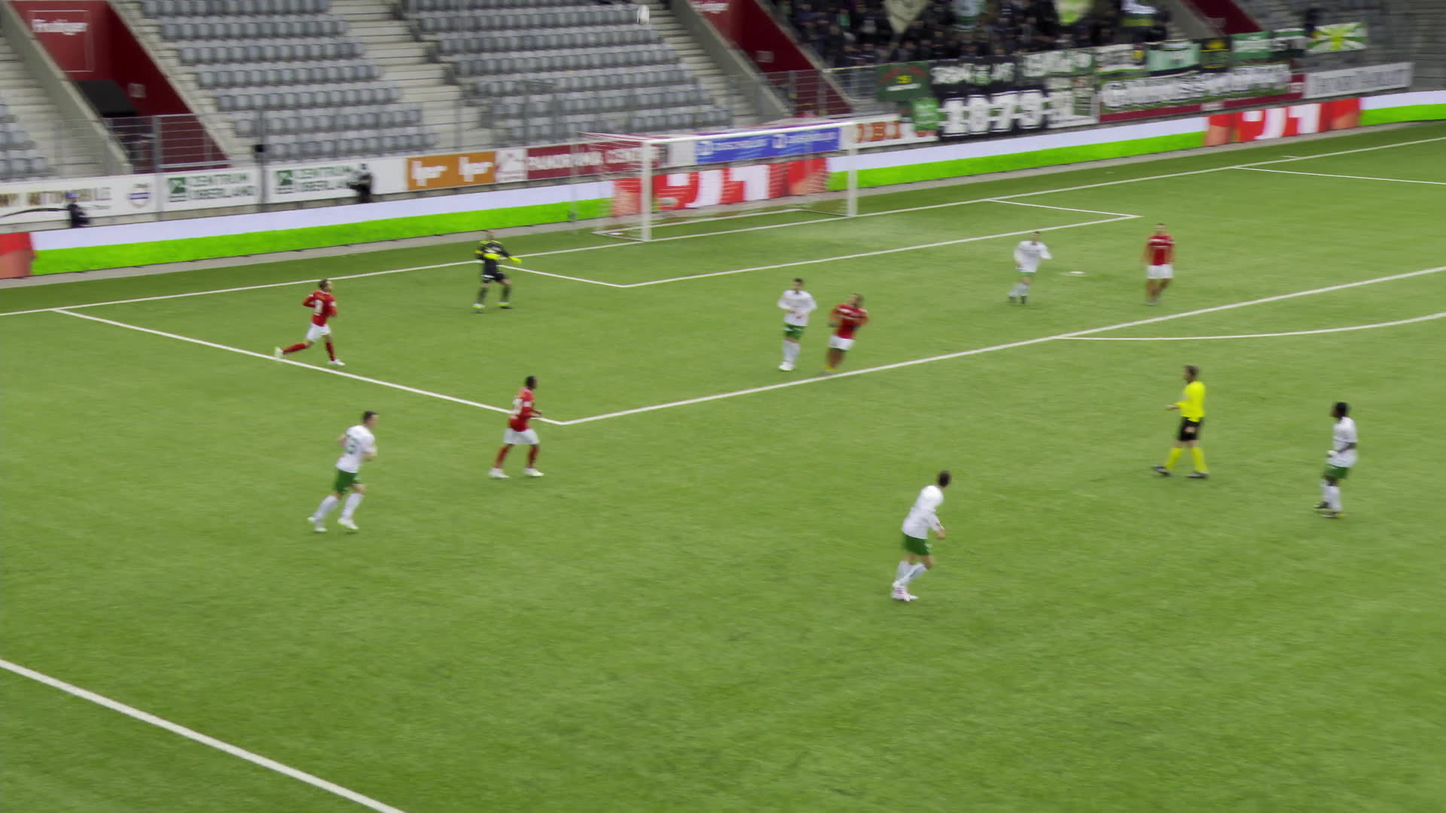ball: (634, 3, 651, 25)
player: (300, 407, 388, 537), (886, 467, 955, 604), (1304, 394, 1363, 524), (269, 275, 349, 370), (484, 371, 545, 481), (769, 274, 820, 376), (468, 224, 525, 315), (819, 288, 871, 375), (1004, 227, 1053, 310), (1135, 220, 1179, 311)
referee: (1146, 361, 1212, 482)
